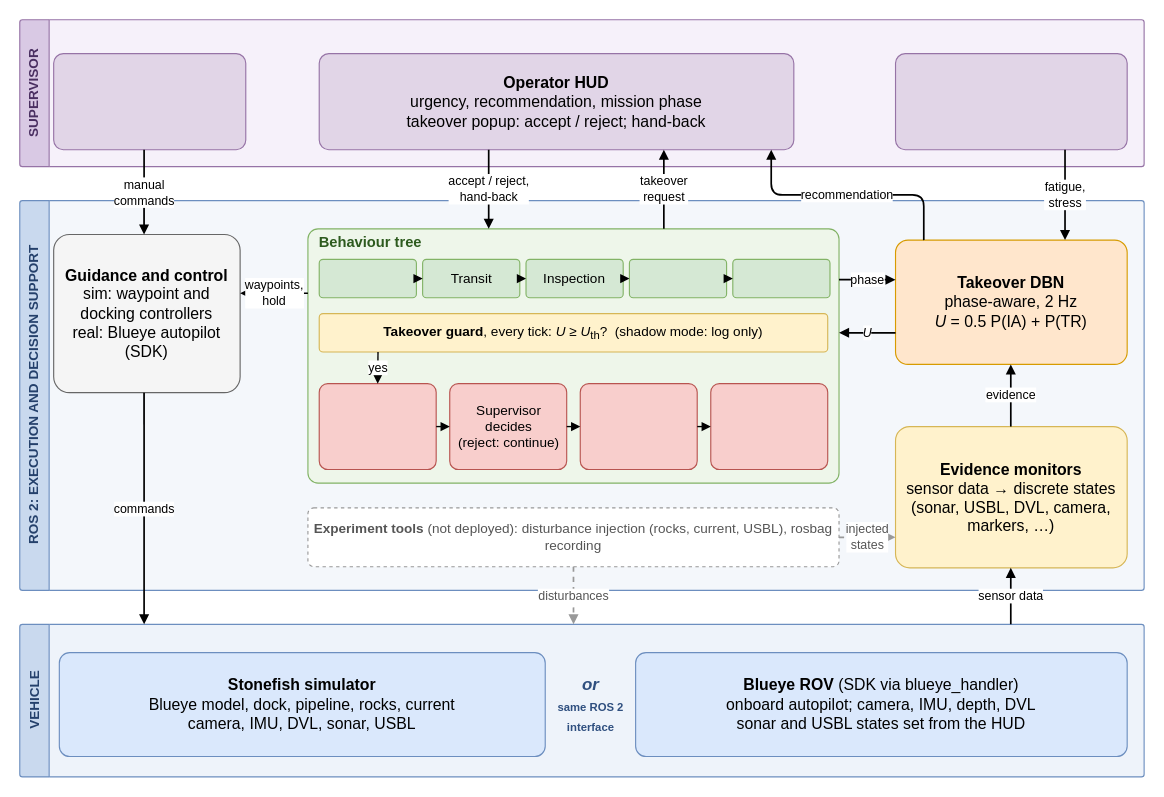
Some shapes in this 1164 by 797 pixel diagram are drawn without their labels. Each missing label, with the centre of its shape:
Docking: (x=781, y=278)
Hand-back at U < U th , resume: (x=769, y=426)
Hold and request takeover: (x=377, y=426)
Homing: (x=677, y=278)
Joystick manual control after an accepted takeover: (x=149, y=101)
Manual control (joystick): (x=638, y=426)
Operator state fatigue, stress (synthetic model in this study): (x=1010, y=101)
Undocking: (x=367, y=278)
